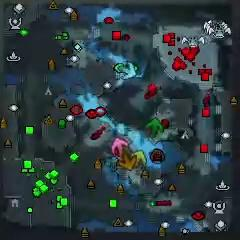x1: (112, 137, 128, 154)
x2: (131, 149, 147, 167)
x3: (120, 61, 136, 80)
x4: (146, 118, 163, 136)
x5: (116, 151, 137, 170)
